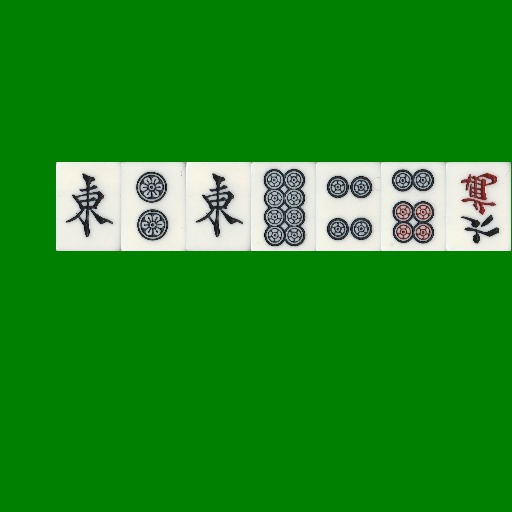2p: (121, 162, 186, 251)
4p: (316, 162, 381, 251)
6m: (446, 162, 511, 251)
6p: (381, 162, 446, 251)
8p: (251, 162, 316, 251)
east: (56, 162, 121, 251), (186, 162, 251, 251)
